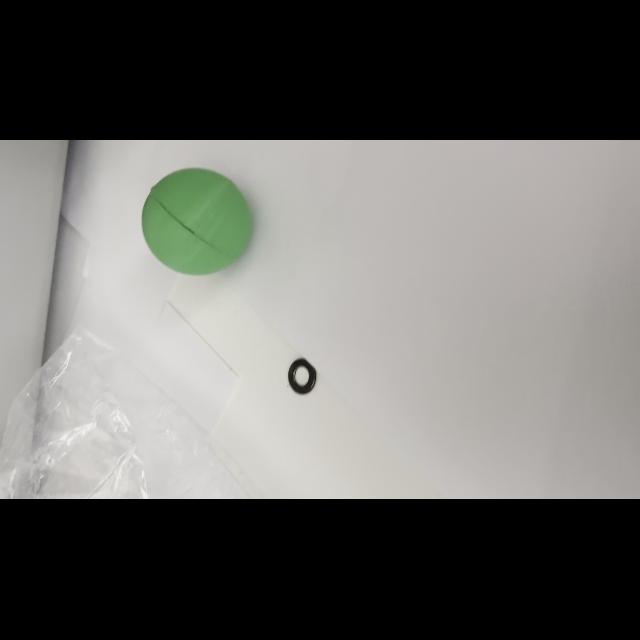objects: (137, 161, 257, 279)
